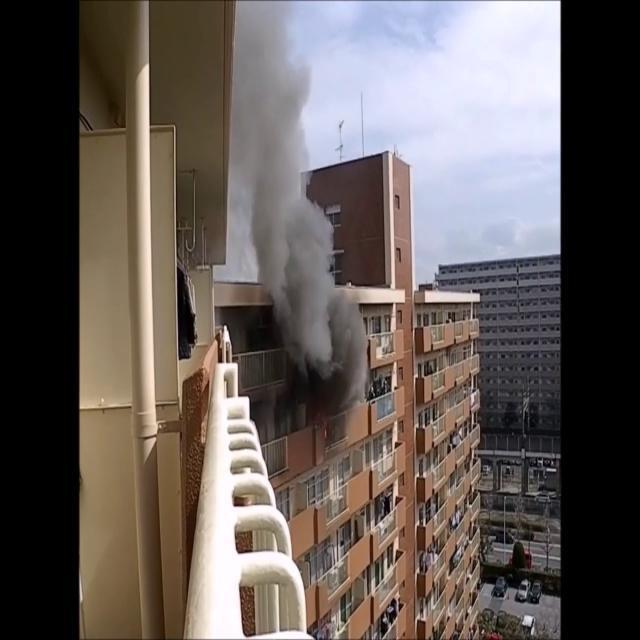Smoke: (226, 2, 358, 383)
